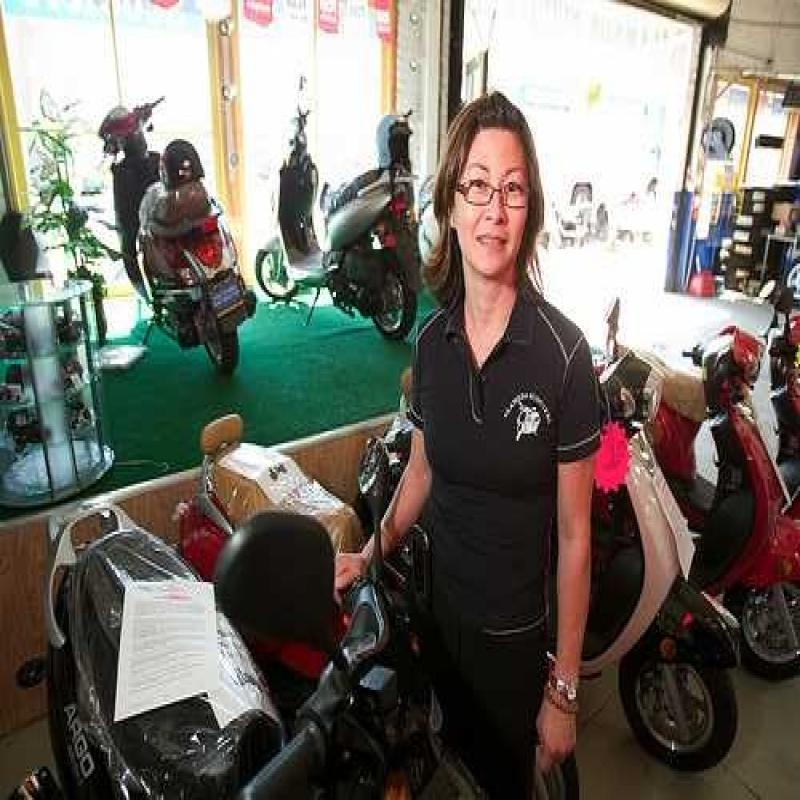bike: (29, 505, 383, 800), (588, 307, 732, 763), (97, 87, 256, 385), (681, 282, 800, 644), (266, 96, 434, 347)
